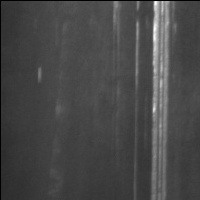scratches: (147, 1, 175, 200)
